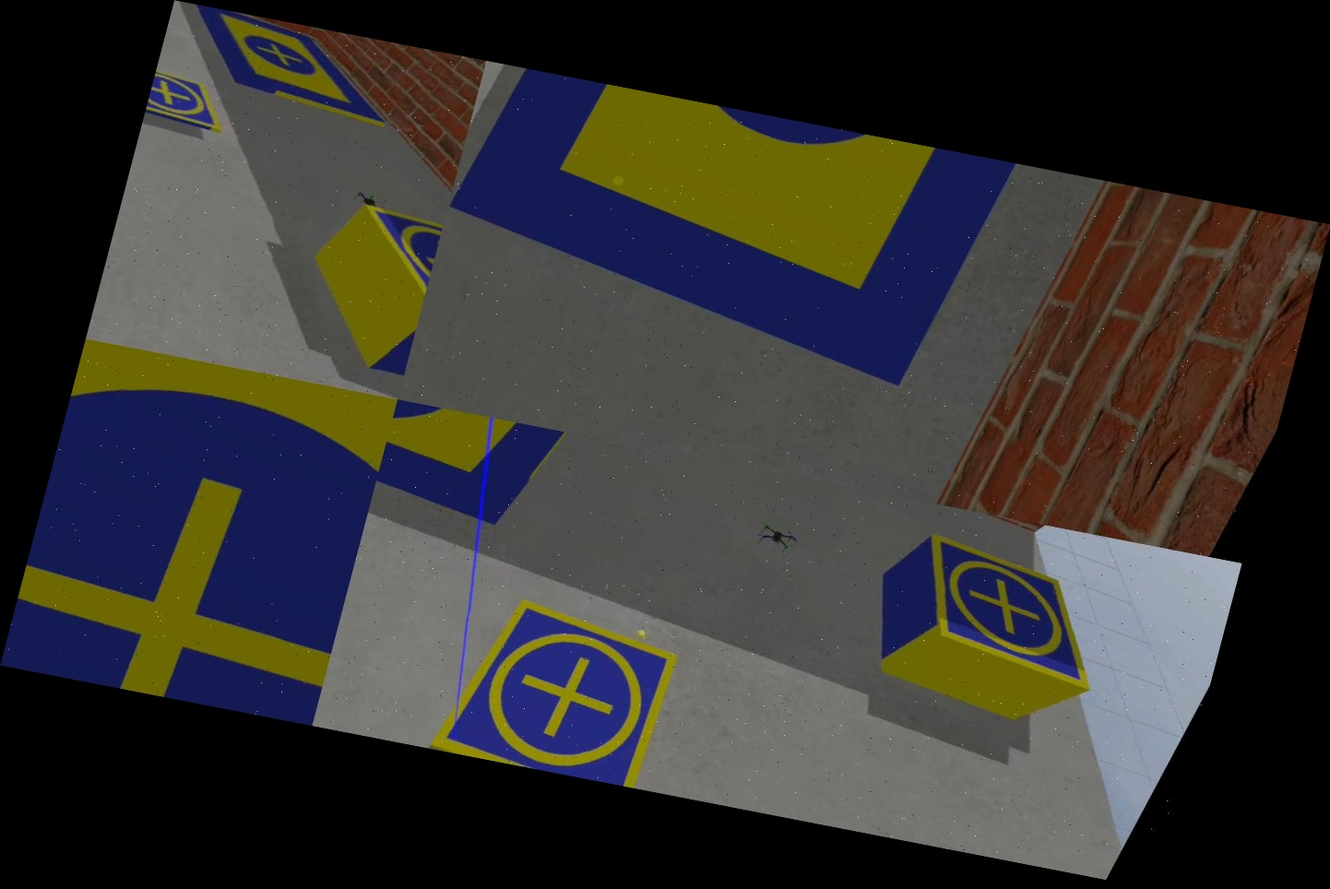large_base: (424, 61, 1046, 406), (0, 339, 398, 725), (151, 1, 421, 141)
small_base: (429, 582, 716, 795), (874, 523, 1146, 700), (314, 186, 448, 335), (139, 62, 248, 149)
